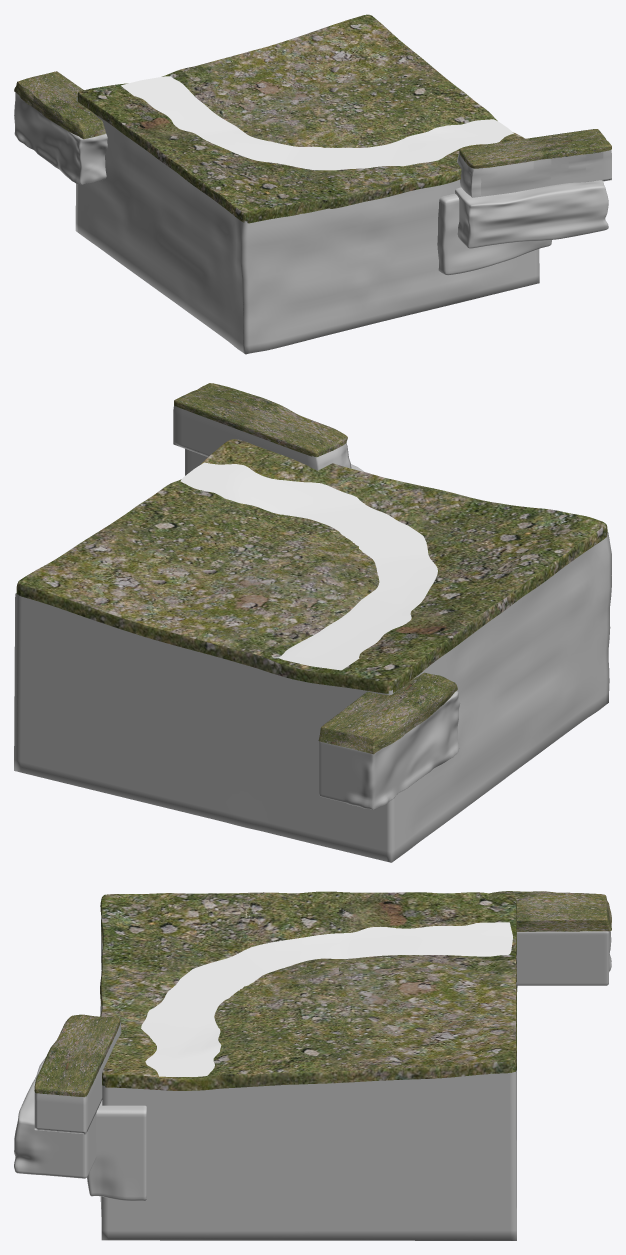
The model's file is GroundReadyForScript.fbx.
3 views of the same model, one above another, from view 1: azimuth 30°, elevation 25°; view 2: azimuth 150°, elevation 25°; view 3: azimuth 270°, elevation 25° (orthographic). The views are drawn at different scales.
Visible parts, largest first — view 1: Soil, polySurface1, polySurface2, Water, Addition__3_, PoorGround, Bottom_1, pCube3, Top_1, Addition__1_, Top; view 2: Soil, polySurface1, polySurface2, Water, PoorGround, pCube3, Top, Top_1, Bottom_1; view 3: Soil, polySurface1, polySurface2, Water, PoorGround, pCube3, Addition__1_, Top_1, Addition__3_, Top, Bottom_1.
Boxes of the visible parts, x1,y1,x2,y2 form: Soil: (75, 97, 539, 354); polySurface1: (77, 67, 524, 192); polySurface2: (191, 14, 466, 127); Water: (121, 76, 513, 170); Addition__3_: (455, 180, 608, 248); PoorGround: (130, 134, 402, 223); Bottom_1: (457, 150, 611, 197); pCube3: (14, 92, 107, 184); Top_1: (459, 129, 611, 168); Addition__1_: (437, 193, 551, 275); Top: (14, 71, 106, 139); Soil: (14, 532, 611, 862); polySurface1: (142, 439, 494, 693); polySurface2: (16, 503, 313, 663); Water: (180, 462, 437, 670); PoorGround: (412, 484, 607, 639); pCube3: (319, 691, 460, 809); Top: (318, 672, 457, 754); Top_1: (174, 383, 347, 457); Bottom_1: (173, 405, 351, 470); Soil: (100, 927, 517, 1240); polySurface1: (100, 892, 516, 1090); polySurface2: (264, 966, 516, 1085); Water: (141, 922, 512, 1076); PoorGround: (100, 891, 364, 1003); pCube3: (517, 931, 611, 985); Addition__1_: (87, 1100, 146, 1200); Top_1: (34, 1014, 120, 1097); Addition__3_: (14, 1057, 96, 1178); Top: (490, 891, 611, 931); Bottom_1: (34, 1022, 121, 1134).
Size of the model in its own units: 63.68 by 24.47 by 71.99.
